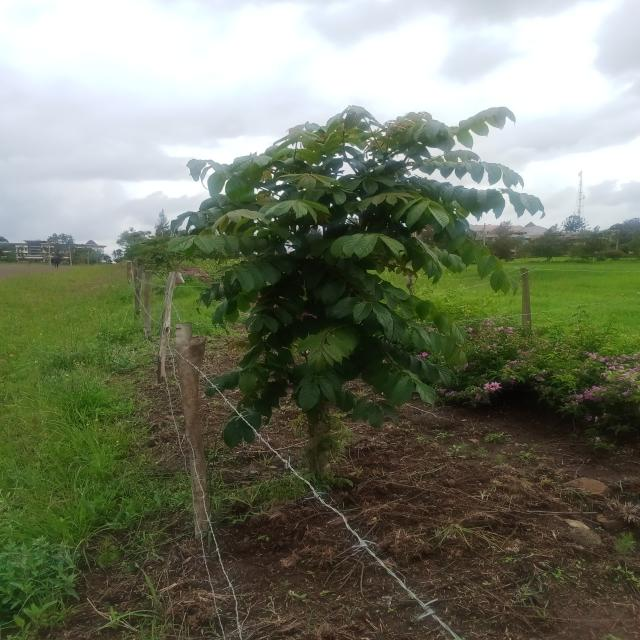Polyscias Kikuyensis: (131, 89, 567, 578)
